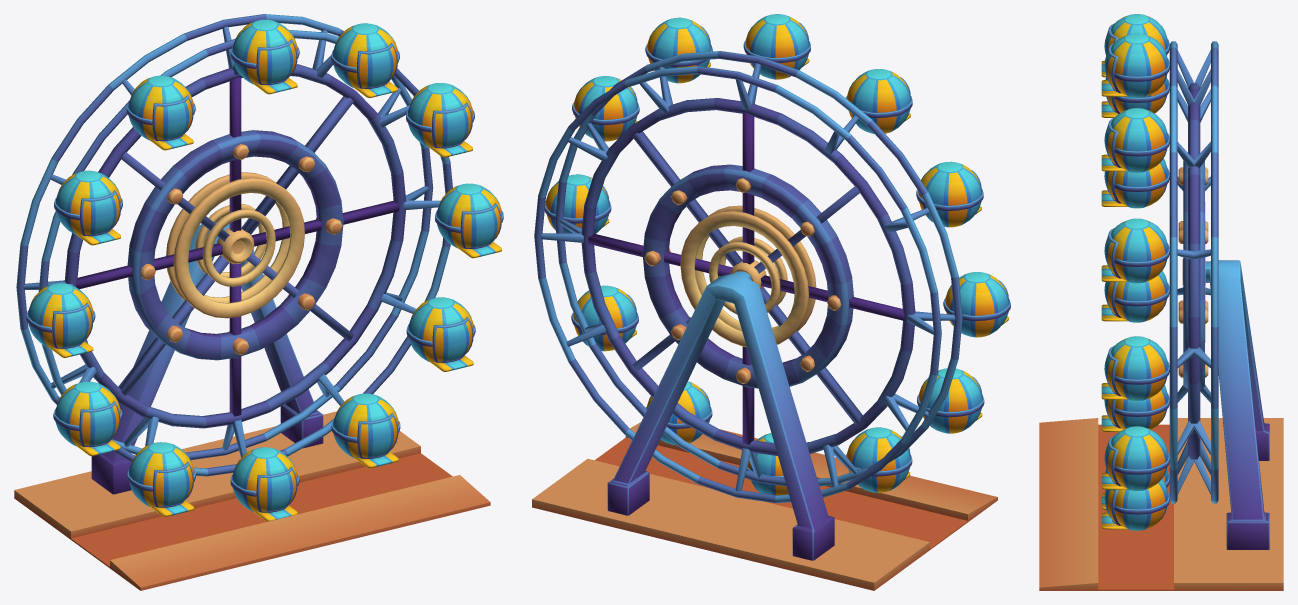
The model's file is lpb_ride_feriswheel.fbx.
3 renders of one model, left to right at view 1: azimuth 30°, elevation 25°; view 2: azimuth 150°, elevation 25°; view 3: azimuth 270°, elevation 25°, orthographic. The views are drawn at different scales.
Visible parts, largest first — view 1: fww, ferisWheel, fw1.003, fw1.006, fw1.010, fw1.011, fw1.001, fw1.004, fw1.008, fw1.002, fw1.007, fw1.009 (+14 smaller); view 2: fww, ferisWheel, fw1.007, fw1.006, fw1.003, fw1.001, fw1.009, fw1.008, fw1.004, fw1.005, fw1.011, fw1.002 (+2 smaller); view 3: ferisWheel, fww, fw1.004, fw1.002, fw1.005, fw1.011, fw1.001, fw1.010, fw1.008, fw1.003, fw1.009, fw1.006 (+8 smaller).
Boxes of the visible parts, left/top/right/bottom form: fww: left=16, top=14, right=452, bottom=476; ferisWheel: left=14, top=219, right=490, bottom=590; fw1.003: left=26, top=283, right=95, bottom=357; fw1.006: left=126, top=75, right=195, bottom=150; fw1.010: left=331, top=393, right=400, bottom=468; fw1.011: left=406, top=297, right=475, bottom=371; fw1.001: left=230, top=19, right=299, bottom=94; fw1.004: left=331, top=23, right=399, bottom=97; fw1.008: left=53, top=381, right=122, bottom=456; fw1.002: left=435, top=183, right=503, bottom=258; fw1.007: left=54, top=170, right=122, bottom=245; fw1.009: left=127, top=442, right=195, bottom=516; fww: left=534, top=51, right=962, bottom=503; ferisWheel: left=532, top=271, right=997, bottom=590; fw1.007: left=916, top=161, right=983, bottom=227; fw1.006: left=845, top=69, right=912, bottom=133; fw1.003: left=943, top=272, right=1010, bottom=337; fw1.001: left=743, top=14, right=810, bottom=79; fw1.009: left=845, top=427, right=912, bottom=492; fw1.008: left=917, top=368, right=984, bottom=433; fw1.004: left=645, top=17, right=712, bottom=83; fw1.005: left=572, top=76, right=639, bottom=141; fw1.011: left=571, top=285, right=638, bottom=351; fw1.002: left=544, top=174, right=611, bottom=233; ferisWheel: left=1039, top=260, right=1283, bottom=590; fww: left=1169, top=41, right=1218, bottom=503; fw1.004: left=1101, top=108, right=1169, bottom=172; fw1.002: left=1101, top=336, right=1169, bottom=400; fw1.005: left=1101, top=218, right=1169, bottom=283; fw1.011: left=1101, top=426, right=1169, bottom=490; fw1.001: left=1101, top=33, right=1169, bottom=97; fw1.010: left=1101, top=478, right=1169, bottom=530; fw1.008: left=1101, top=271, right=1169, bottom=322; fw1.003: left=1101, top=158, right=1169, bottom=208; fw1.009: left=1101, top=385, right=1169, bottom=431; fw1.006: left=1101, top=14, right=1169, bottom=77.
Size of the model in its own units: 23.72 by 23.57 by 11.11.
